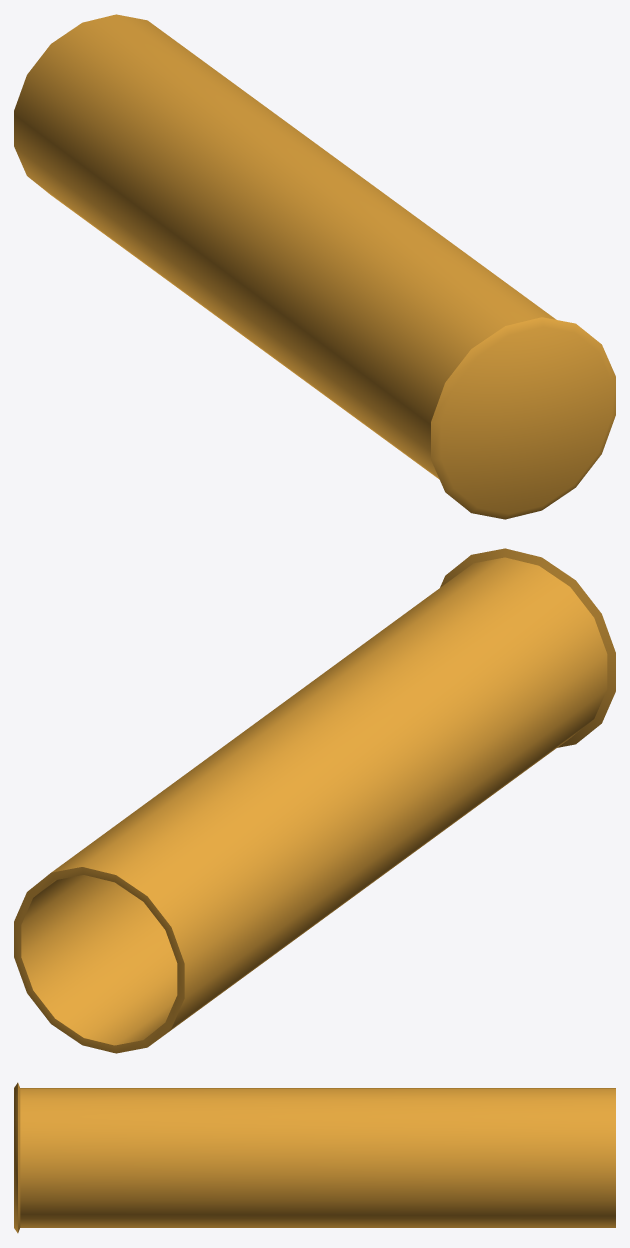
Rendered from soviet_122_empty.fbx.
3 views of the same model, one above another, from view 1: azimuth 30°, elevation 25°; view 2: azimuth 150°, elevation 25°; view 3: azimuth 270°, elevation 25° (orthographic). The views are drawn at different scales.
Parts seen in each view (by area): view 1: Case.001; view 2: Case.001; view 3: Case.001.
Part boxes in pixels (box(x1,y1,x2,y2)): Case.001: box(14, 14, 615, 519); Case.001: box(14, 548, 615, 1053); Case.001: box(14, 1082, 615, 1233).
Bounding box in the file's own units: 99.46 × 99.46 × 398.
